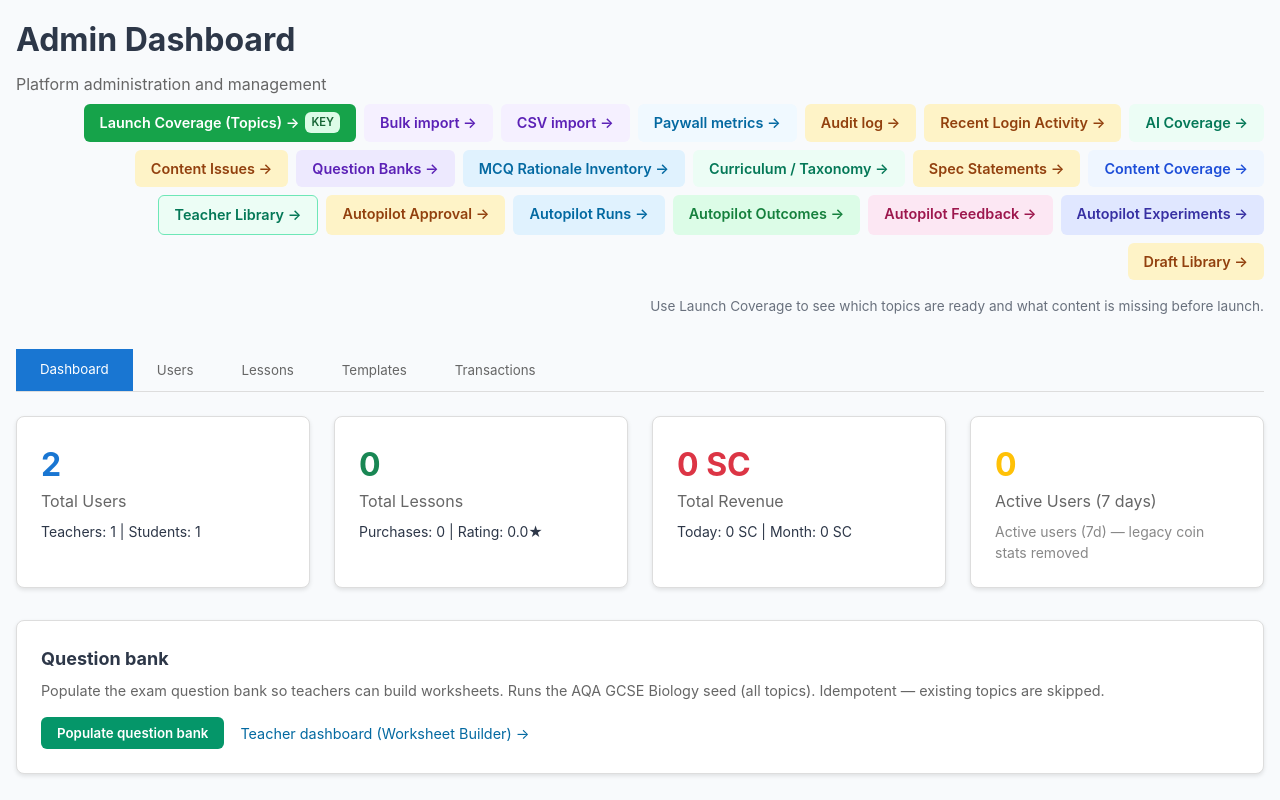
AdminDashboardPage login activity UI › shows Recent Login Activity link and Last Login column on Users tab
This screenshot has width=1280, height=800.
Expected: the link "Recent Login Activity →" is shown, [924,104,1121,142]
Click the button "Users".
click(175, 370)  # box [133,349,218,391]
(page scrolled)
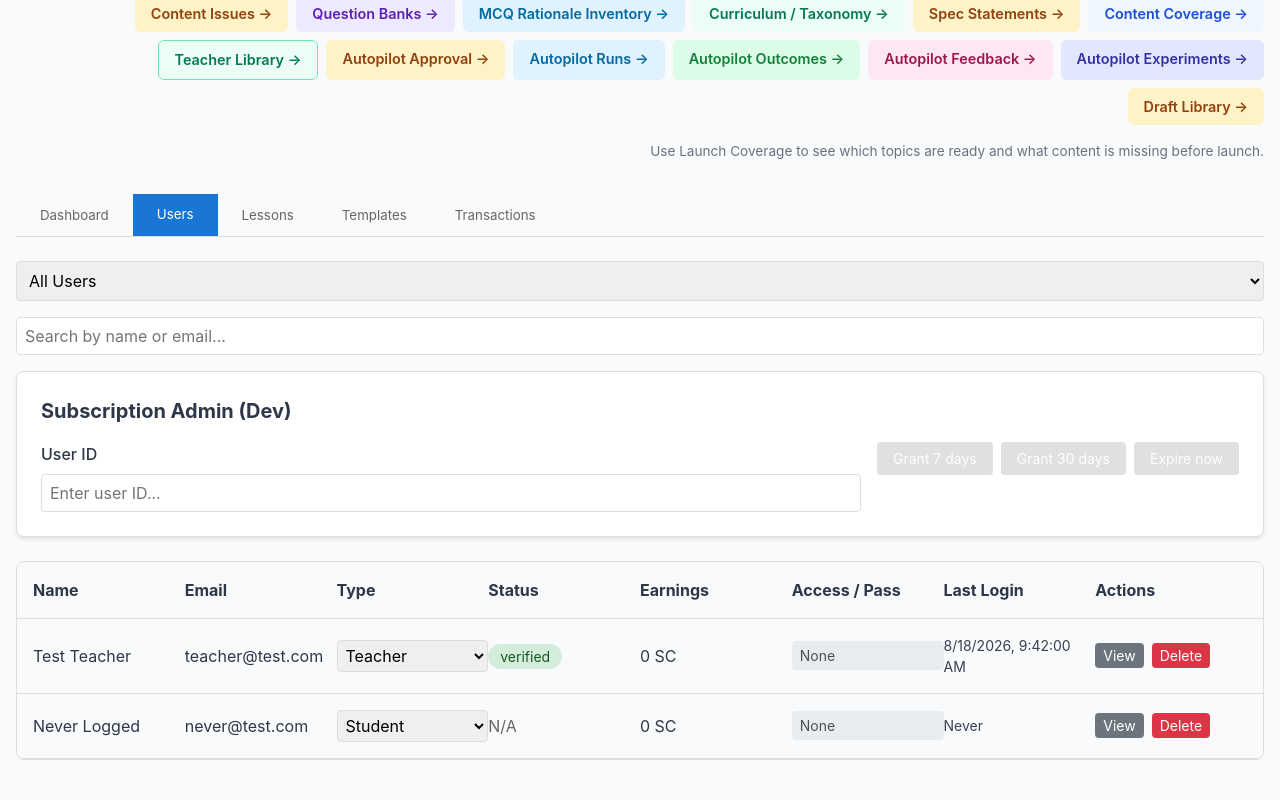
Expected: the text "Last Login" is shown, [944,580,1024,600]
Expected: the text "Never" is shown, [944,717,983,734]
